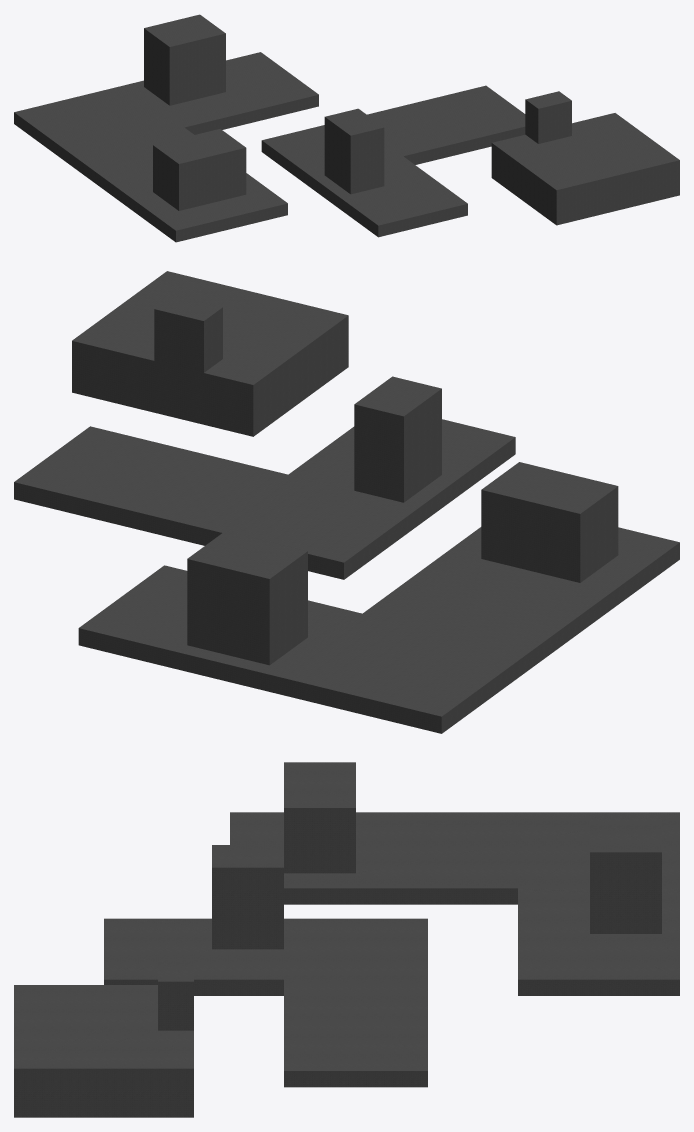
The picture shows the model from 3 angles, top to bottom: view 1: azimuth 30°, elevation 25°; view 2: azimuth 150°, elevation 25°; view 3: azimuth 270°, elevation 25°; orthographic projection. The views are drawn at different scales.
Parts seen in each view (by area): view 1: SFP_Concrete Mesh (1); view 2: SFP_Concrete Mesh (1); view 3: SFP_Concrete Mesh (1).
Part boxes in pixels (x1,y1,x2,y2): SFP_Concrete Mesh (1): (14,14,679,242); SFP_Concrete Mesh (1): (14,271,679,733); SFP_Concrete Mesh (1): (14,762,679,1117).
Size of the model in its own units: 38 by 6 by 37.
